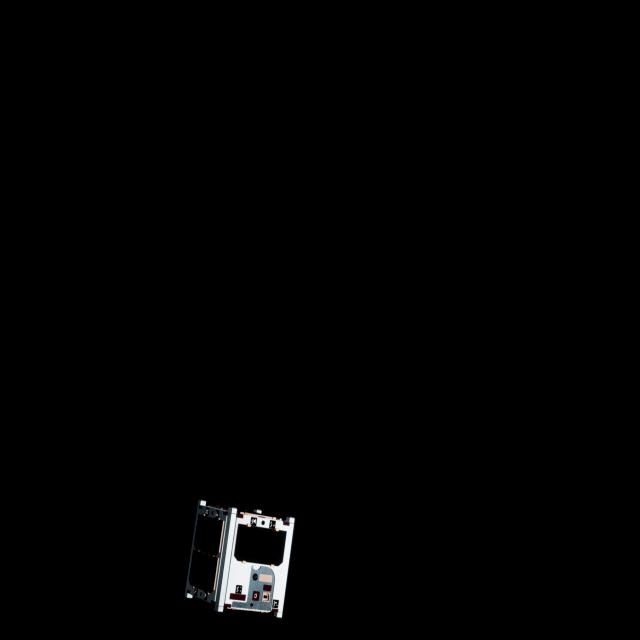medium_debris: (177, 495, 300, 625)
